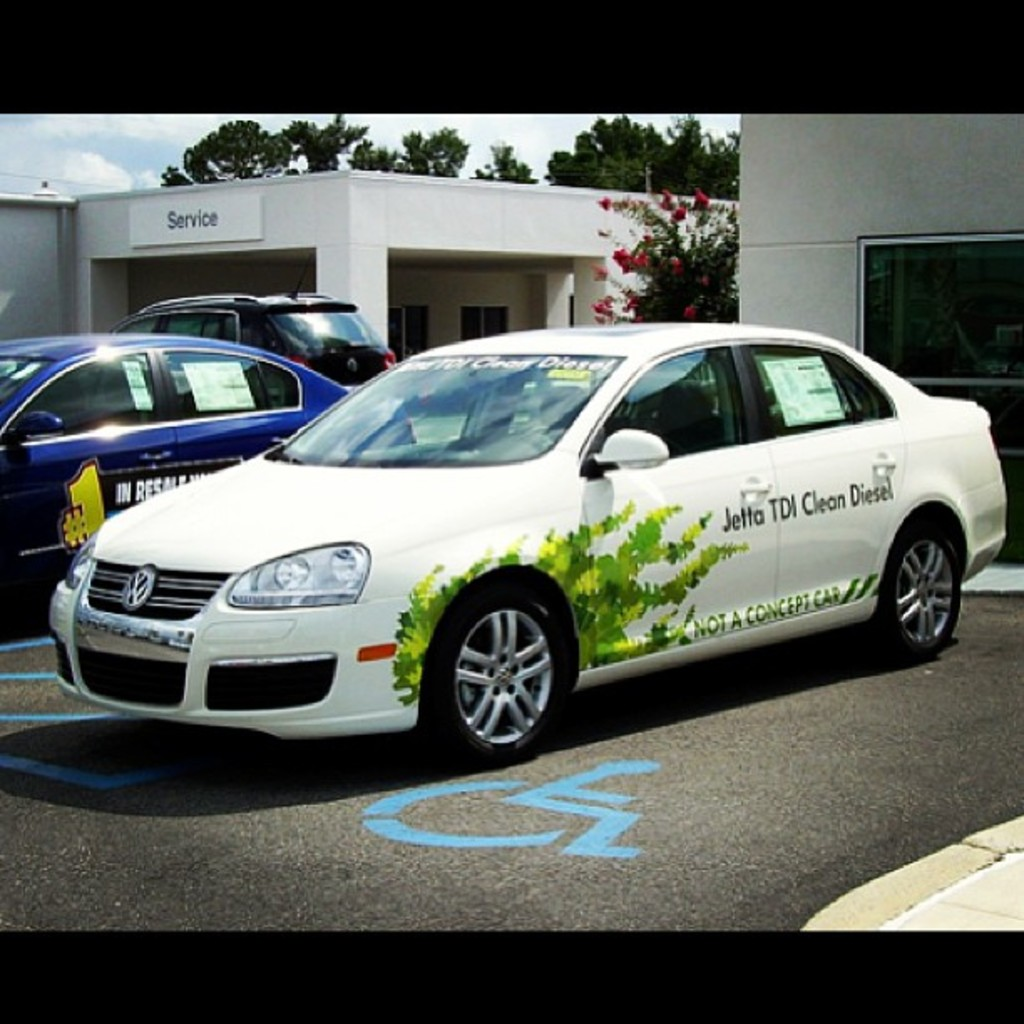mobil: (49, 322, 1007, 761)
